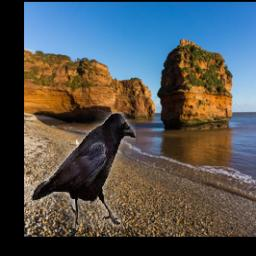Crow: (32, 112, 136, 228)
